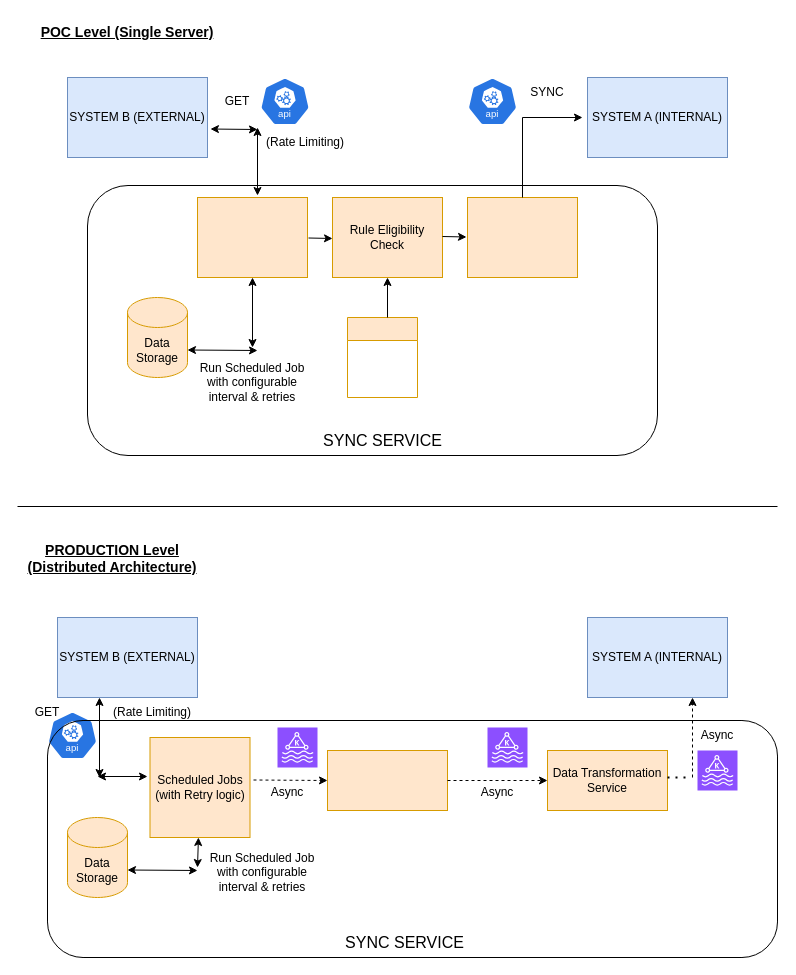
Image size: 796x975. Some labels were removed from this diagram. Here are the shapes that lost their labels. From the top down, the box of each, then its label:
(196, 196, 308, 278): Scheduled Script (Eg. Cron Job)
(466, 196, 578, 278): Data Transformation
(346, 316, 418, 398): Rules Config
(326, 750, 448, 810): Rule Engine
